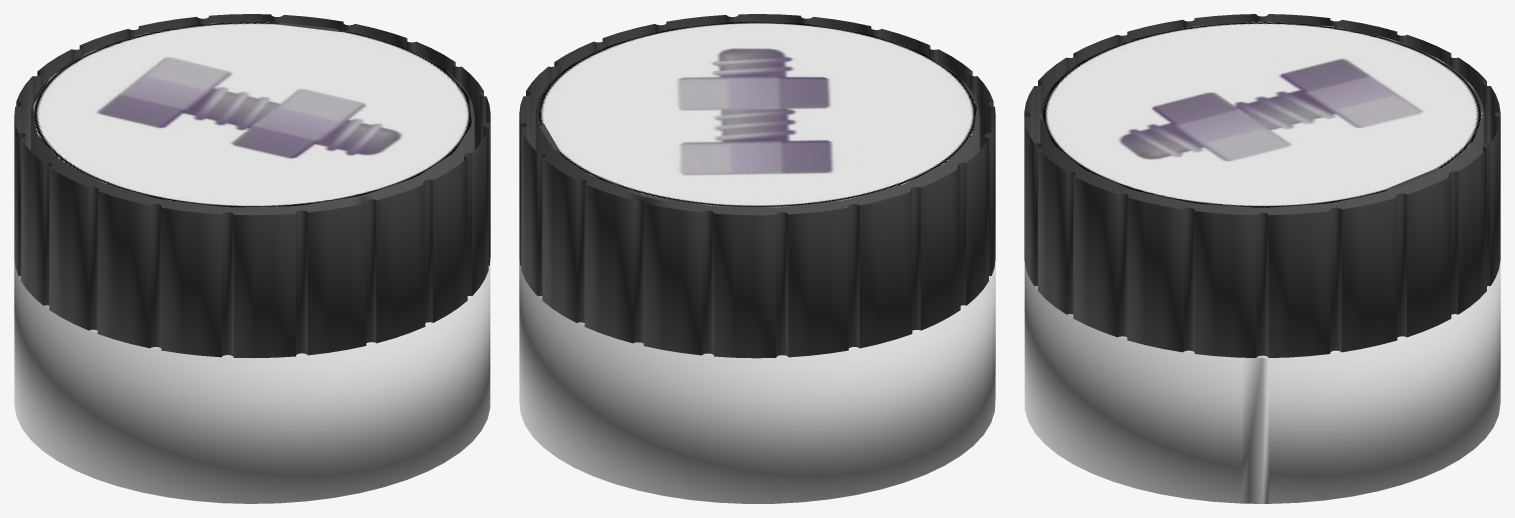
Rendered from nut_container.glb.
3 renders of one model, left to right at view 1: azimuth 30°, elevation 25°; view 2: azimuth 150°, elevation 25°; view 3: azimuth 270°, elevation 25°, orthographic.
Visible parts, largest first — view 1: Part 4, Part 5, pill lid-1 - Part 3; view 2: Part 4, Part 5, pill lid-1 - Part 3; view 3: Part 4, Part 5, pill lid-1 - Part 3.
Part boxes in pixels (left/top/right/bottom): Part 4: left=14, top=14, right=490, bottom=358; Part 5: left=14, top=259, right=490, bottom=503; pill lid-1 - Part 3: left=33, top=22, right=471, bottom=207; Part 4: left=519, top=14, right=995, bottom=358; Part 5: left=519, top=259, right=995, bottom=503; pill lid-1 - Part 3: left=538, top=22, right=976, bottom=207; Part 4: left=1024, top=14, right=1500, bottom=357; Part 5: left=1024, top=260, right=1500, bottom=503; pill lid-1 - Part 3: left=1042, top=21, right=1482, bottom=207.
Size of the model in its own units: 0.0752 by 0.0503 by 0.0752.
Materials: 4 (1 with a texture image).
